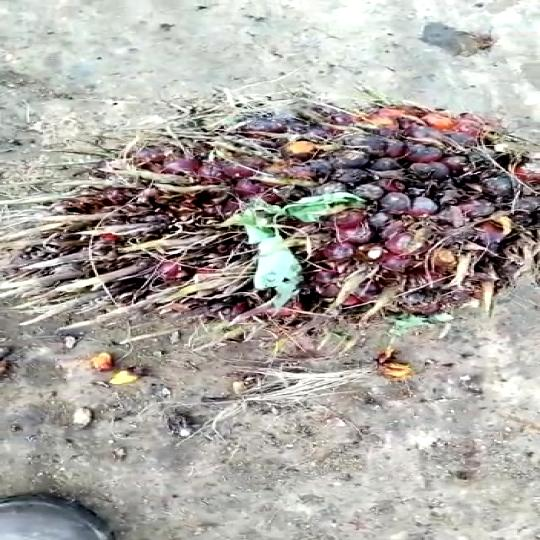masak: (31, 86, 540, 348)
